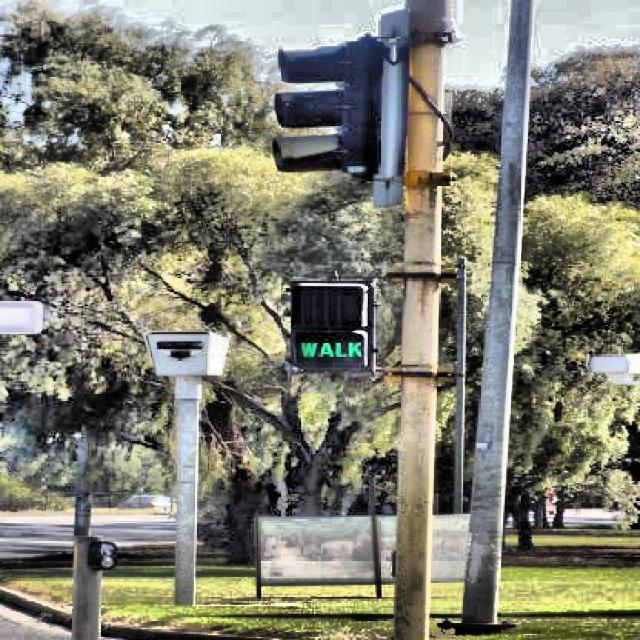semaforo pedestre: (243, 246, 417, 445)
